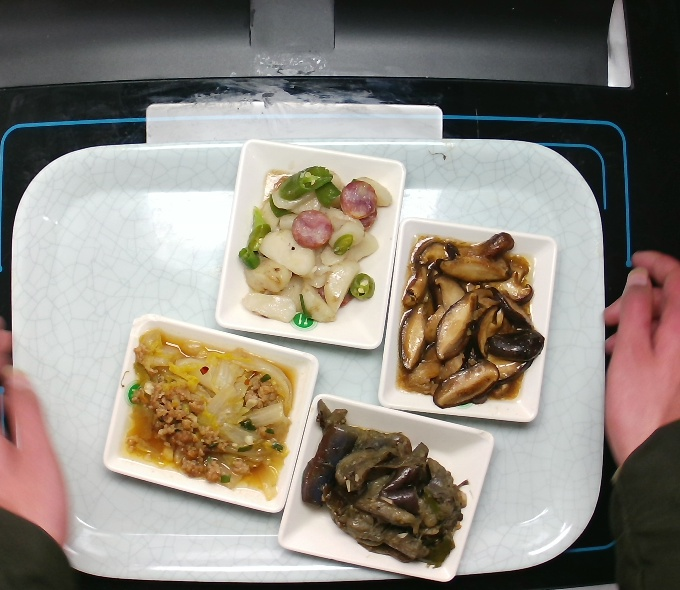wcq-MaTiGuo: (230, 159, 397, 336)
wcq-MoGu: (396, 222, 544, 415)
wcq-QieZi: (298, 400, 473, 573)
wcq-RouMoBaiCai: (113, 321, 301, 506)
